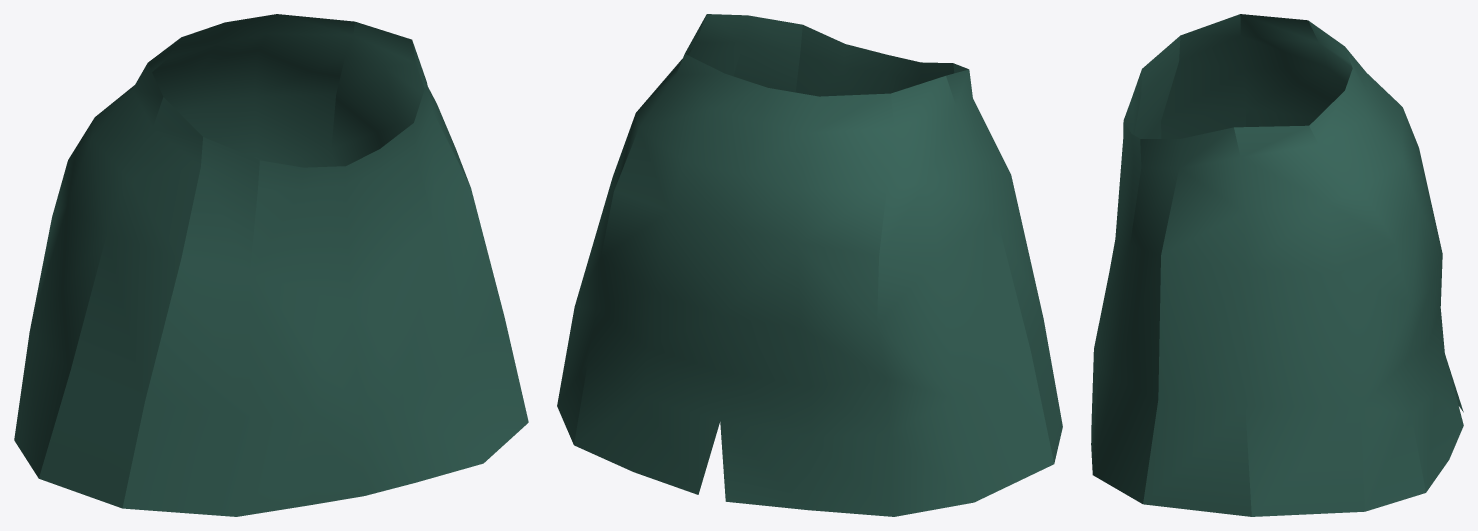
File: Skirt_News.fbx
3 views of the same model, side by side, from view 1: azimuth 30°, elevation 25°; view 2: azimuth 150°, elevation 25°; view 3: azimuth 270°, elevation 25° (orthographic). The views are drawn at different scales.
Parts seen in each view (by area): view 1: Skirt_News; view 2: Skirt_News; view 3: Skirt_News.
Boxes of the visible parts, x1,y1,x2,y2 form: Skirt_News: [14, 14, 528, 516]; Skirt_News: [557, 14, 1062, 516]; Skirt_News: [1091, 14, 1463, 516].
Size of the model in its own units: 46.17 by 35.16 by 33.46.
